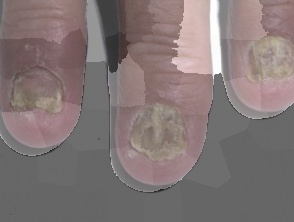Nail_psoriasis: (111, 86, 206, 183), (2, 32, 78, 130), (237, 21, 294, 95)
